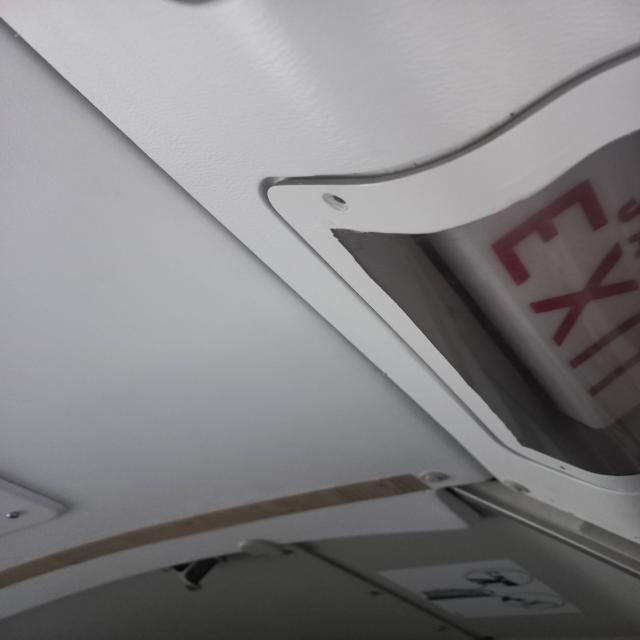Missing Fastener: (308, 184, 364, 220)
